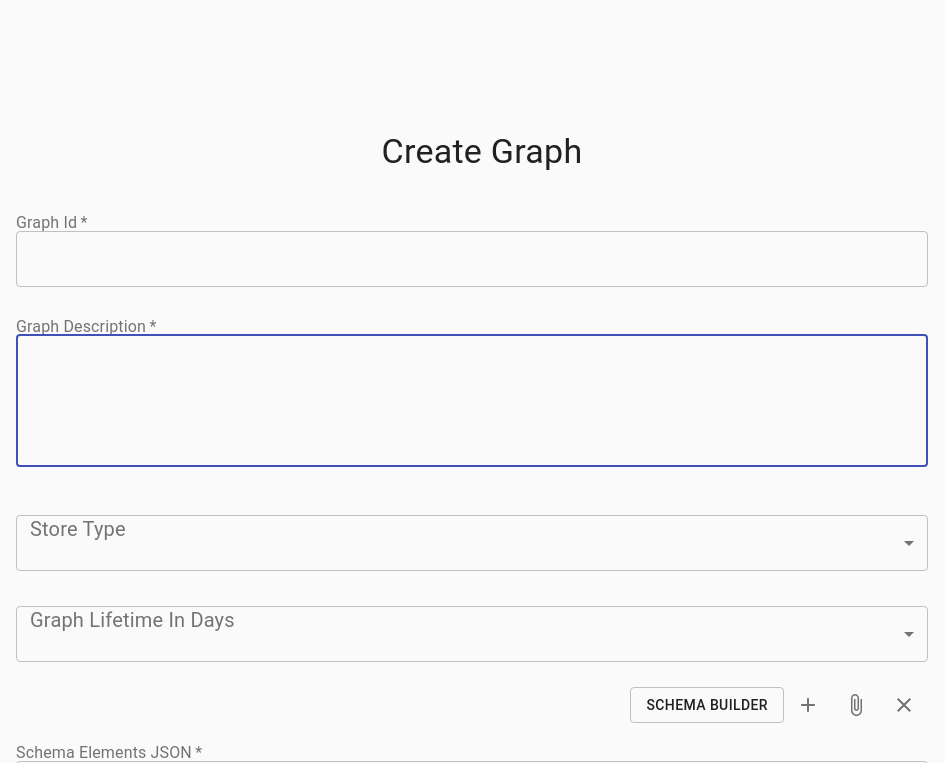
CreateGraph UI component › When Federated StoreType Is Selected › Should have a URL Input, Add Button & Graph Table when federated store is selected
Replace the text in the field named "store-type-select" with "federated" at [472, 543], box [16,515,928,571]
(page scrolled)
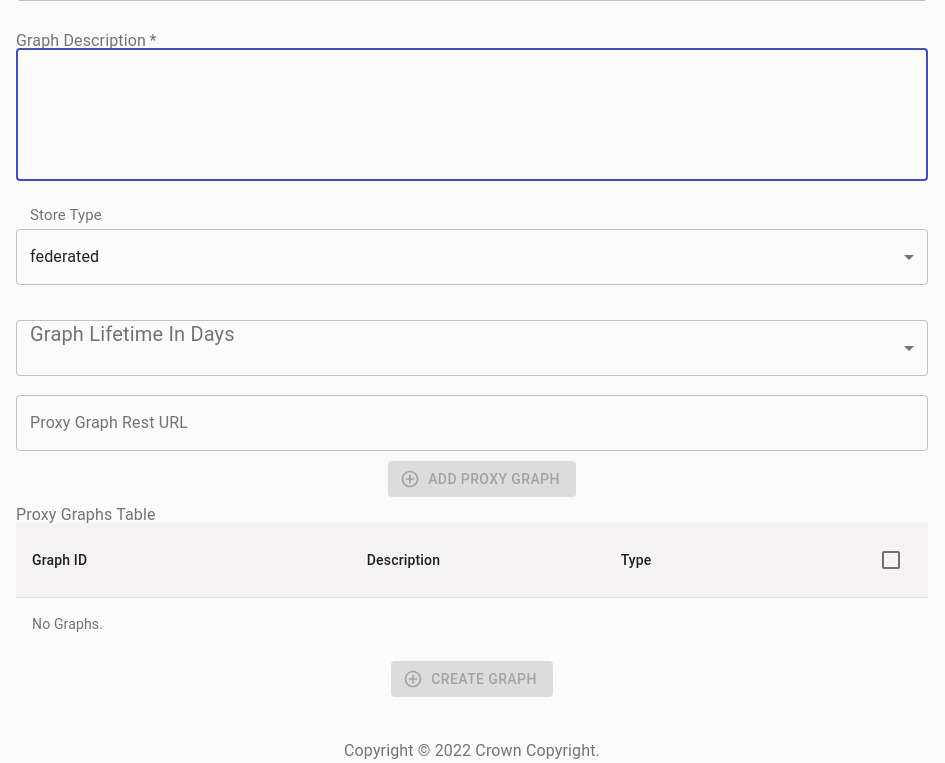
Expected: the button with id "add-new-proxy-button" reads "Add Proxy Graph", [388,461,576,498]
Expected: the table reads "Graph ID Description Type No Graphs.", [16,524,928,650]
